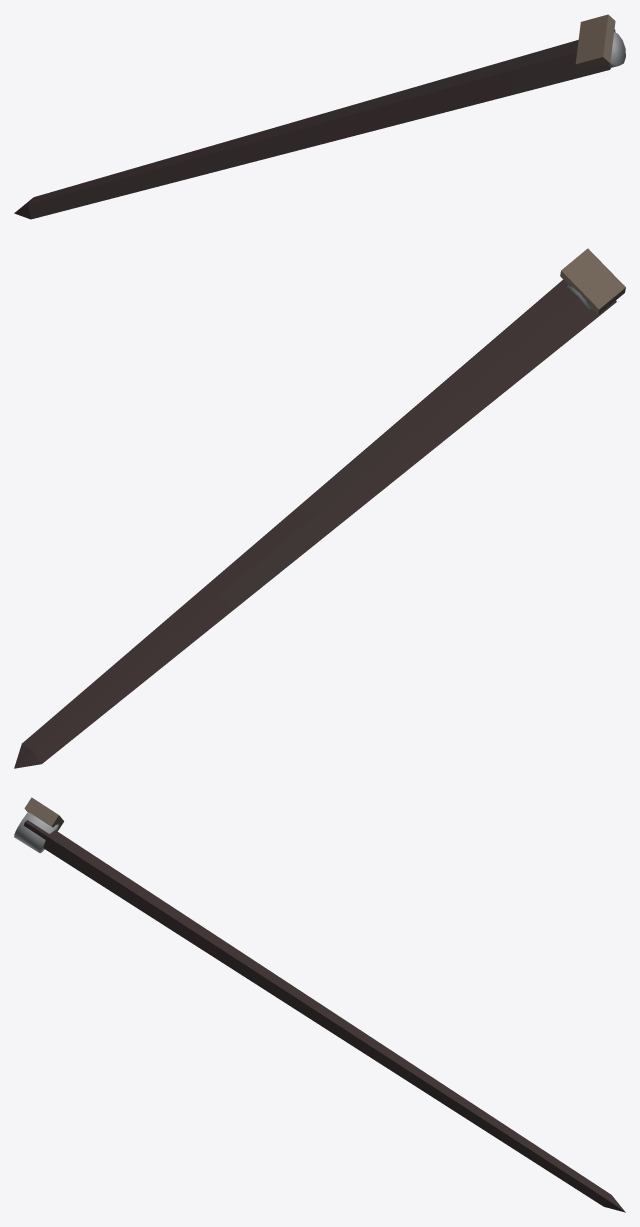
The model's file is KatanaSaya.fbx.
3 views of the same model, one above another, from view 1: azimuth 90°, elevation 25°; view 2: azimuth 150°, elevation 25°; view 3: azimuth 270°, elevation 25° (orthographic). The views are drawn at different scales.
Parts seen in each view (by area): view 1: KatanaSaya; view 2: KatanaSaya; view 3: KatanaSaya.
Boxes of the visible parts, box(x1,y1,x2,y2) form: KatanaSaya: box(14, 14, 625, 219); KatanaSaya: box(14, 248, 625, 768); KatanaSaya: box(14, 797, 625, 1212).
Bounding box in the file's own units: 27.35 × 30.7 × 55.44.
